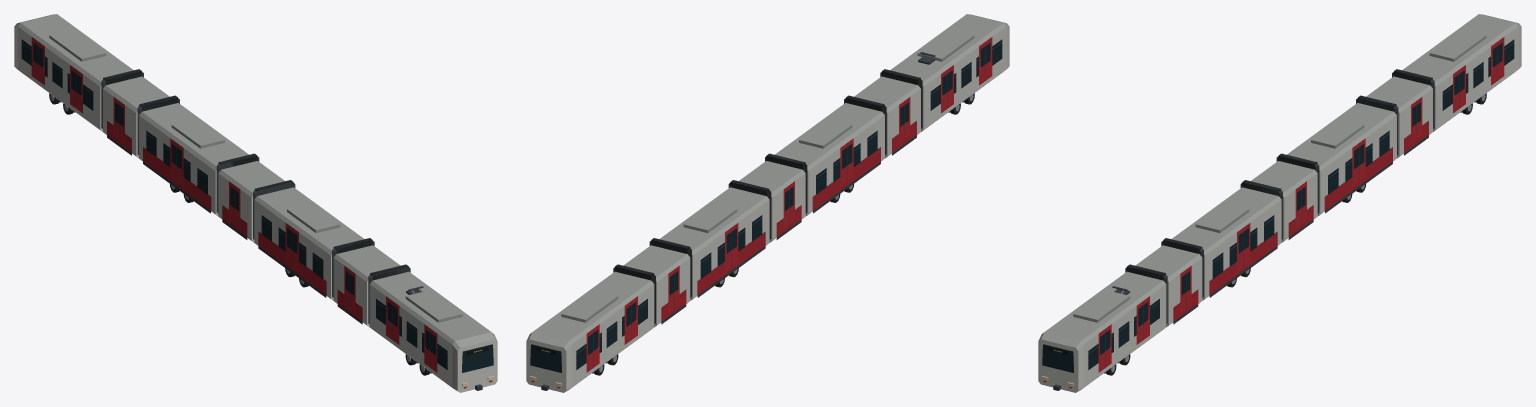
The model's file is tram-vip-combino.glb.
The picture shows the model from 3 angles, left to right: view 1: azimuth 30°, elevation 25°; view 2: azimuth 150°, elevation 25°; view 3: azimuth 330°, elevation 25°; orthographic projection.
Parts seen in each view (by area): view 1: tram-vip-combino.segment-01.005, tram-vip-combino.segment-07.005, tram-vip-combino.segment-05.005, tram-vip-combino.segment-03.005, tram-vip-combino.segment-02.005, tram-vip-combino.segment-04.005, tram-vip-combino.segment-06.005; view 2: tram-vip-combino.segment-07.005, tram-vip-combino.segment-01.005, tram-vip-combino.segment-05.005, tram-vip-combino.segment-03.005, tram-vip-combino.segment-06.005, tram-vip-combino.segment-04.005, tram-vip-combino.segment-02.005; view 3: tram-vip-combino.segment-01.005, tram-vip-combino.segment-07.005, tram-vip-combino.segment-05.005, tram-vip-combino.segment-03.005, tram-vip-combino.segment-02.005, tram-vip-combino.segment-04.005, tram-vip-combino.segment-06.005.
Boxes of the visible parts, left/top/right/bottom form: tram-vip-combino.segment-01.005: left=368, top=264, right=497, bottom=392; tram-vip-combino.segment-07.005: left=14, top=14, right=133, bottom=131; tram-vip-combino.segment-05.005: left=137, top=95, right=248, bottom=216; tram-vip-combino.segment-03.005: left=253, top=180, right=364, bottom=300; tram-vip-combino.segment-02.005: left=332, top=238, right=400, bottom=327; tram-vip-combino.segment-04.005: left=216, top=153, right=284, bottom=242; tram-vip-combino.segment-06.005: left=101, top=69, right=169, bottom=158; tram-vip-combino.segment-07.005: left=526, top=271, right=654, bottom=392; tram-vip-combino.segment-01.005: left=880, top=14, right=1009, bottom=131; tram-vip-combino.segment-05.005: left=649, top=187, right=769, bottom=300; tram-vip-combino.segment-03.005: left=765, top=103, right=884, bottom=216; tram-vip-combino.segment-06.005: left=613, top=245, right=690, bottom=327; tram-vip-combino.segment-04.005: left=728, top=161, right=805, bottom=242; tram-vip-combino.segment-02.005: left=844, top=76, right=920, bottom=158; tram-vip-combino.segment-01.005: left=1038, top=264, right=1167, bottom=392; tram-vip-combino.segment-07.005: left=1402, top=14, right=1521, bottom=131; tram-vip-combino.segment-05.005: left=1287, top=95, right=1398, bottom=216; tram-vip-combino.segment-03.005: left=1171, top=180, right=1282, bottom=300; tram-vip-combino.segment-02.005: left=1135, top=238, right=1203, bottom=327; tram-vip-combino.segment-04.005: left=1251, top=153, right=1319, bottom=242; tram-vip-combino.segment-06.005: left=1366, top=69, right=1434, bottom=158.
Size of the model in its own units: 2.35 by 3.35 by 42.44.
